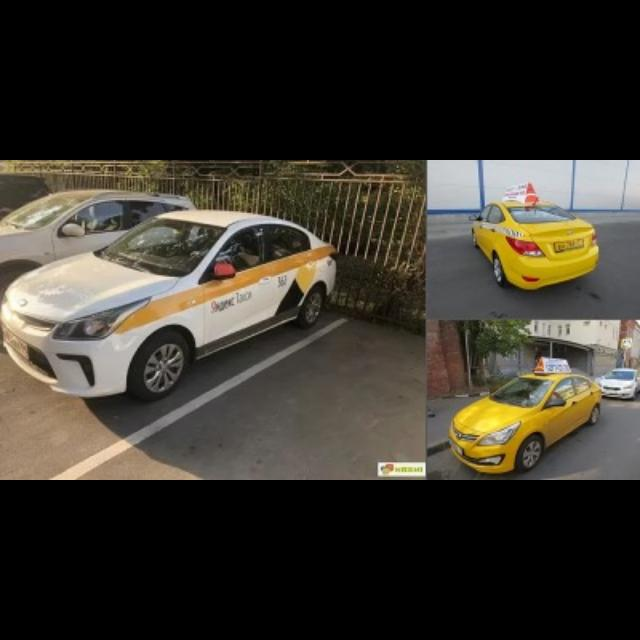taxi: (2, 208, 339, 403), (448, 356, 603, 474), (469, 182, 600, 290)
